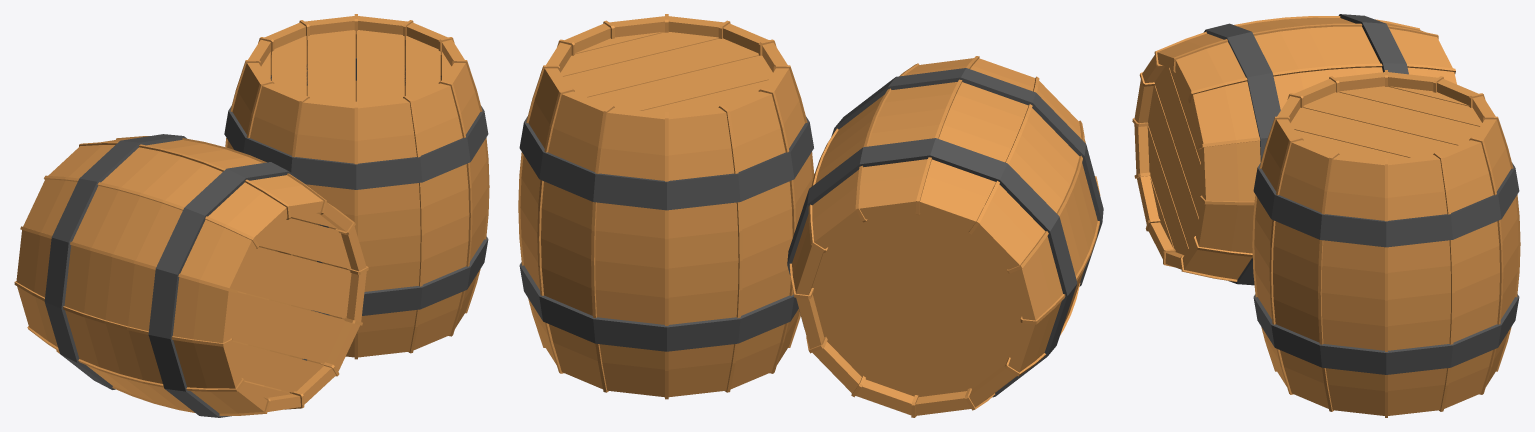
3 renders of one model, left to right at view 1: azimuth 30°, elevation 25°; view 2: azimuth 150°, elevation 25°; view 3: azimuth 270°, elevation 25°, orthographic. The views are drawn at different scales.
Parts seen in each view (by area): view 1: 円柱.004, 円柱, 円柱.007, 円柱.003, 円柱.005, 円柱.001, 円柱.006, 円柱.002; view 2: 円柱, 円柱.004, 円柱.007, 円柱.003, 円柱.001, 円柱.006, 円柱.002, 円柱.005; view 3: 円柱, 円柱.004, 円柱.003, 円柱.007, 円柱.001, 円柱.002, 円柱.005, 円柱.006.
Part boxes in pixels (bbox=[...]): 円柱.004: bbox=[14, 136, 368, 415]; 円柱: bbox=[225, 14, 489, 359]; 円柱.007: bbox=[231, 213, 351, 397]; 円柱.003: bbox=[261, 30, 451, 103]; 円柱.005: bbox=[148, 162, 329, 417]; 円柱.001: bbox=[224, 58, 488, 189]; 円柱.006: bbox=[44, 134, 186, 389]; 円柱.002: bbox=[362, 236, 488, 315]; 円柱: bbox=[518, 14, 814, 399]; 円柱.004: bbox=[789, 56, 1100, 417]; 円柱.007: bbox=[812, 213, 1022, 397]; 円柱.003: bbox=[560, 32, 772, 113]; 円柱.001: bbox=[519, 116, 813, 210]; 円柱.006: bbox=[787, 138, 1077, 397]; 円柱.002: bbox=[519, 262, 798, 351]; 円柱.005: bbox=[831, 68, 1103, 286]; 円柱: bbox=[1252, 70, 1520, 417]; 円柱.004: bbox=[1132, 16, 1456, 281]; 円柱.003: bbox=[1290, 86, 1482, 160]; 円柱.007: bbox=[1147, 66, 1201, 255]; 円柱.001: bbox=[1253, 162, 1519, 247]; 円柱.002: bbox=[1253, 294, 1519, 374]; 円柱.005: bbox=[1203, 23, 1280, 285]; 円柱.006: bbox=[1338, 14, 1408, 74].
Size of what is drawn, in the model's own units: 4.75 by 2.57 by 3.51.
